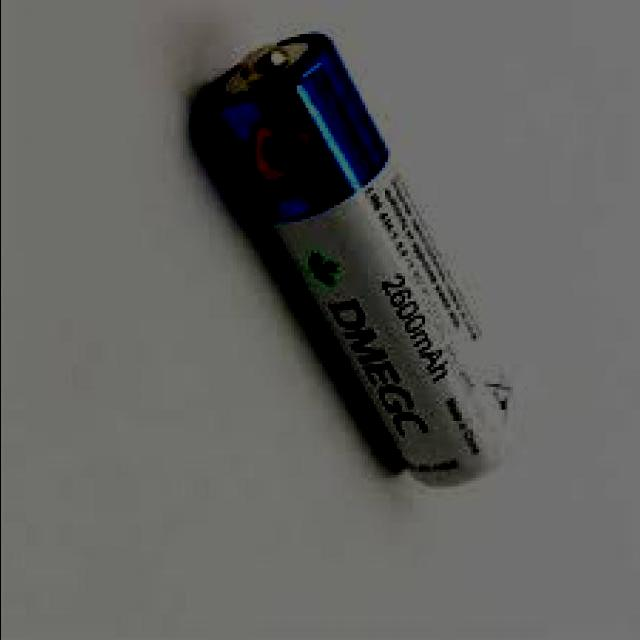AA: (207, 36, 524, 486)
